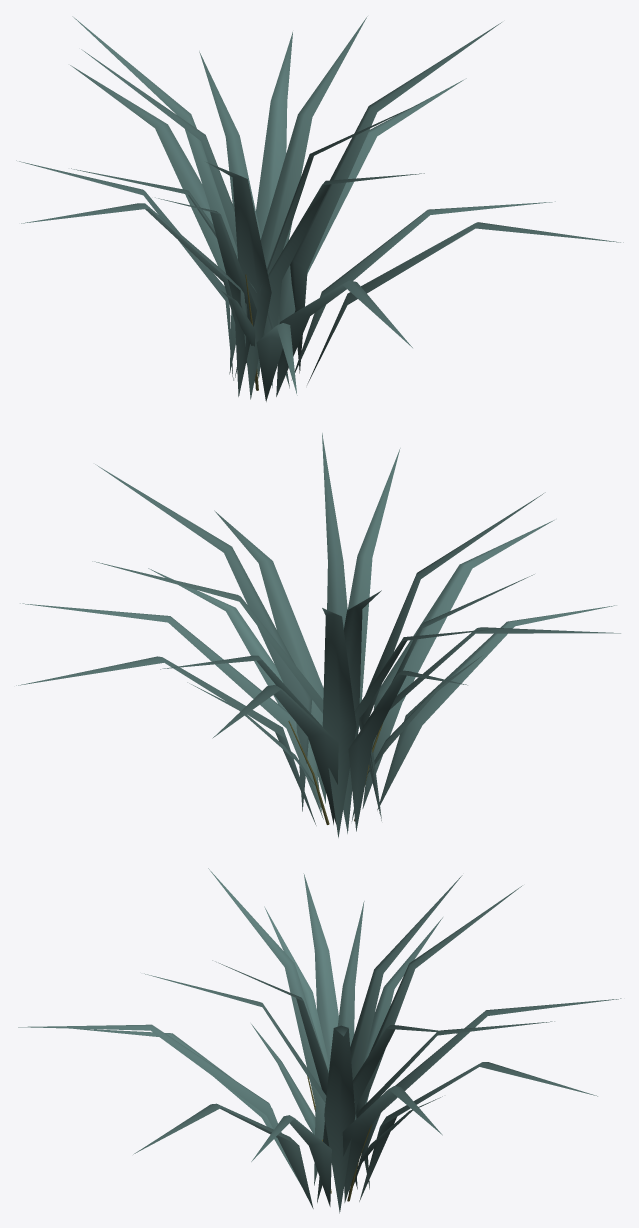
The model's file is blue_fescue.glb.
3 renders of one model, top to bottom at view 1: azimuth 30°, elevation 25°; view 2: azimuth 150°, elevation 25°; view 3: azimuth 270°, elevation 25°, orthographic. The views are drawn at different scales.
Visible parts, largest first — view 1: blue_fescue; view 2: blue_fescue; view 3: blue_fescue.
Boxes of the visible parts, left/top/right/bottom form: blue_fescue: left=16, top=16, right=623, bottom=401; blue_fescue: left=16, top=433, right=620, bottom=837; blue_fescue: left=18, top=868, right=621, bottom=1213.
Size of the model in its own units: 0.4264 by 0.2434 by 0.4833.
